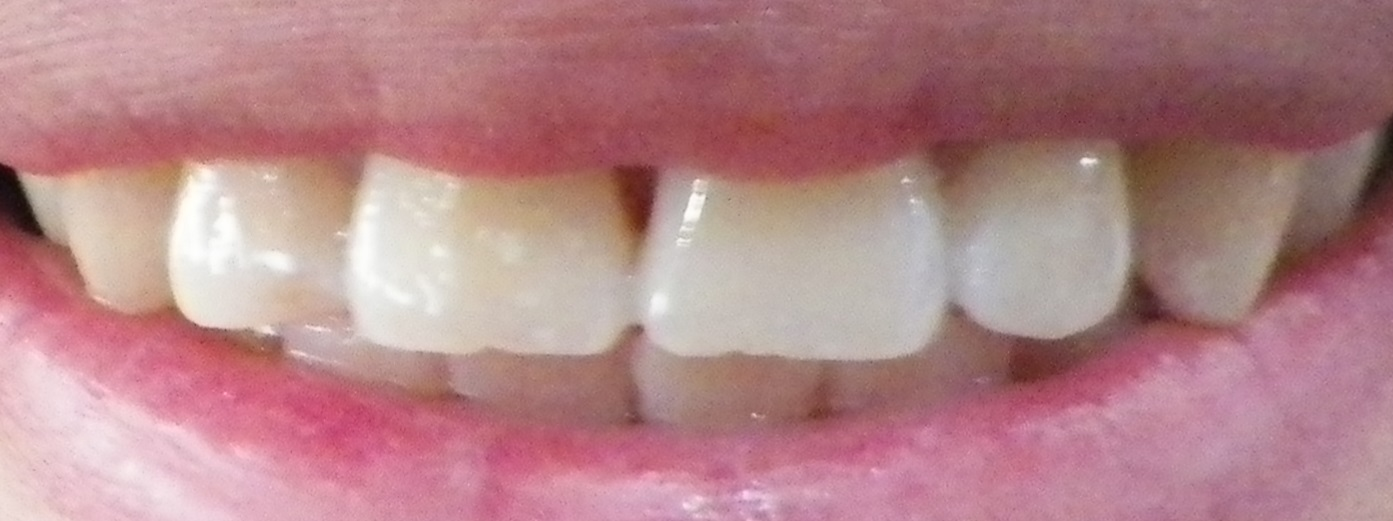boca: (7, 123, 1359, 442)
